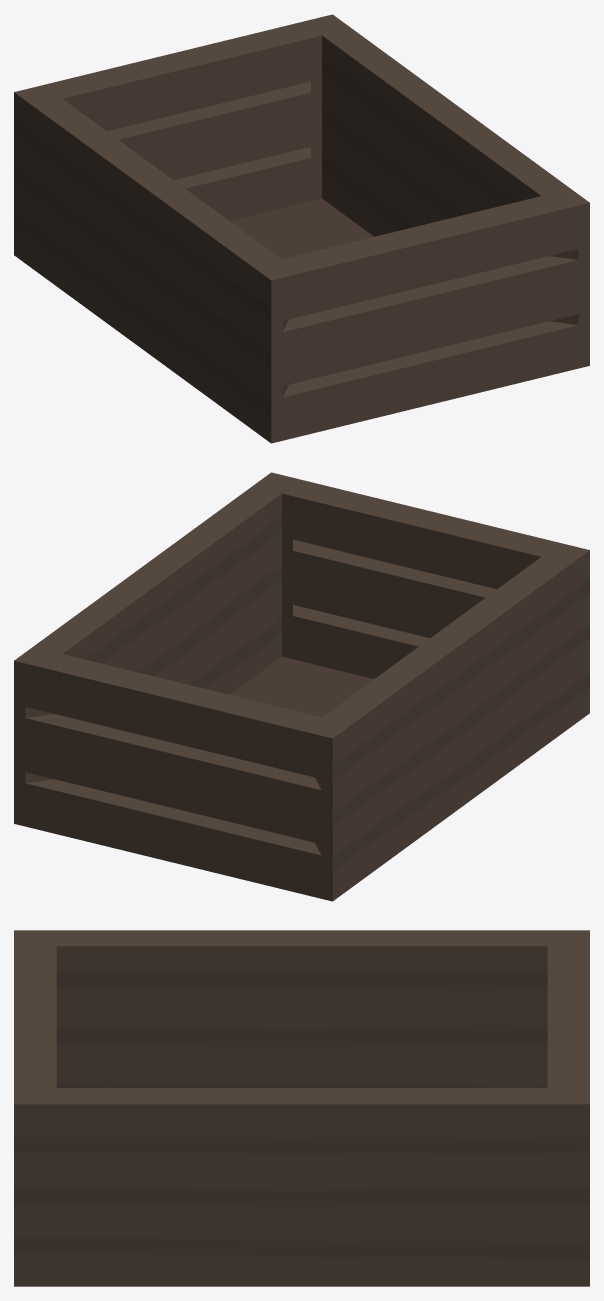
File: CaixaMadeiraBuild.fbx
3 renders of one model, top to bottom at view 1: azimuth 30°, elevation 25°; view 2: azimuth 150°, elevation 25°; view 3: azimuth 270°, elevation 25°, orthographic. The views are drawn at different scales.
Parts seen in each view (by area): view 1: CaixaModelo; view 2: CaixaModelo; view 3: CaixaModelo.
Part boxes in pixels (x1,y1,x2,y2): CaixaModelo: (14,14,589,443); CaixaModelo: (14,472,589,901); CaixaModelo: (14,930,589,1286).
Size of the model in its own units: 10.12 by 4.95 by 14.15.
